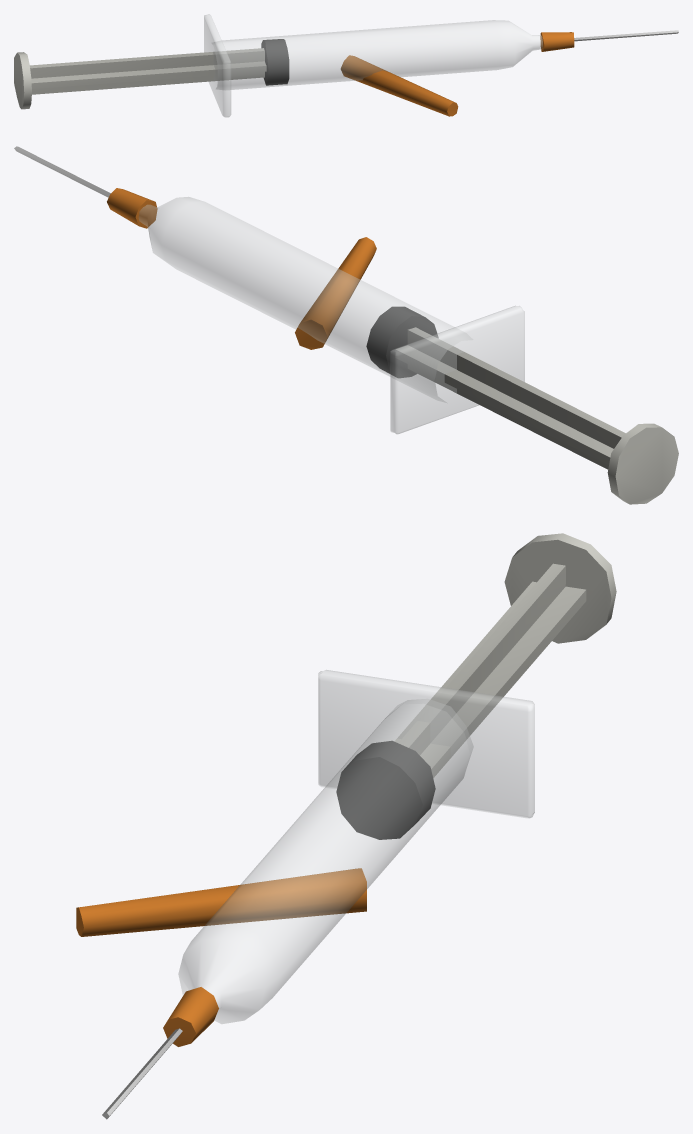
File: syringe.glb
3 views of the same model, one above another, from view 1: azimuth 30°, elevation 25°; view 2: azimuth 150°, elevation 25°; view 3: azimuth 270°, elevation 25° (orthographic). The views are drawn at different scales.
Parts seen in each view (by area): view 1: syringe; view 2: syringe; view 3: syringe.
Part boxes in pixels (x1,y1,x2,y2): syringe: [14, 14, 678, 117]; syringe: [14, 146, 678, 504]; syringe: [76, 533, 616, 1119].
Size of the model in its own units: 0.1226 by 0.012 by 0.0518.
